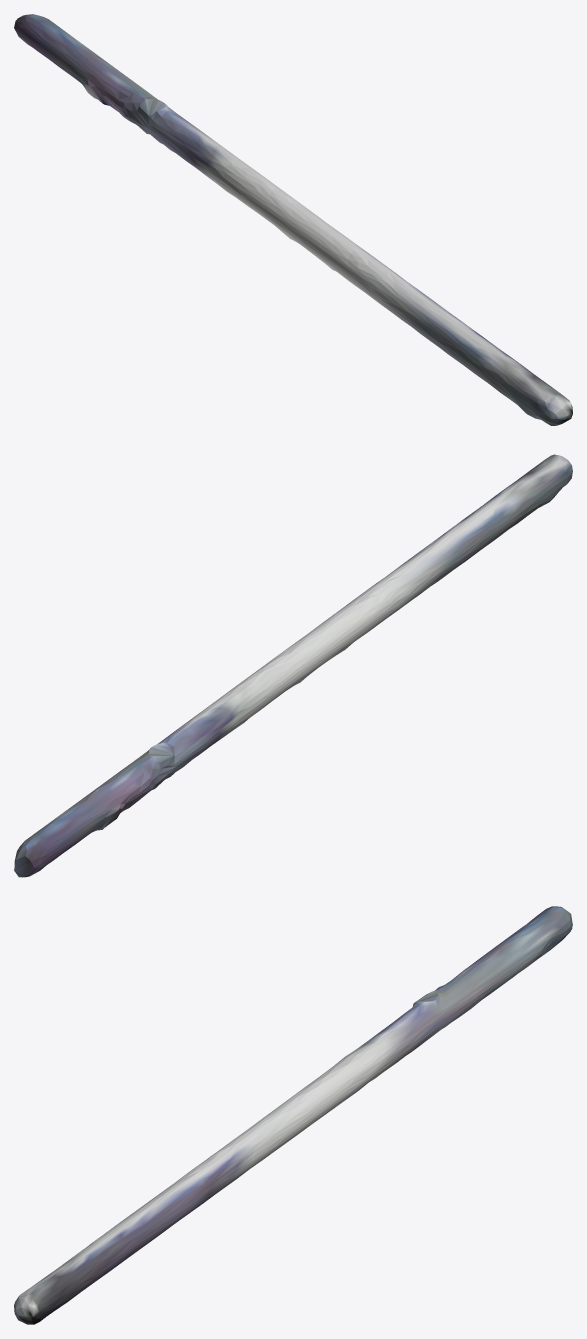
The picture shows the model from 3 angles, top to bottom: view 1: azimuth 30°, elevation 25°; view 2: azimuth 150°, elevation 25°; view 3: azimuth 330°, elevation 25°; orthographic projection.
Parts seen in each view (by area): view 1: scan.ply; view 2: scan.ply; view 3: scan.ply.
Part boxes in pixels (x1,y1,x2,y2): scan.ply: [14, 14, 572, 425]; scan.ply: [14, 454, 572, 877]; scan.ply: [14, 906, 572, 1324].
Bounding box in the file's own units: 0.00669 × 0.0078 × 0.1995.
